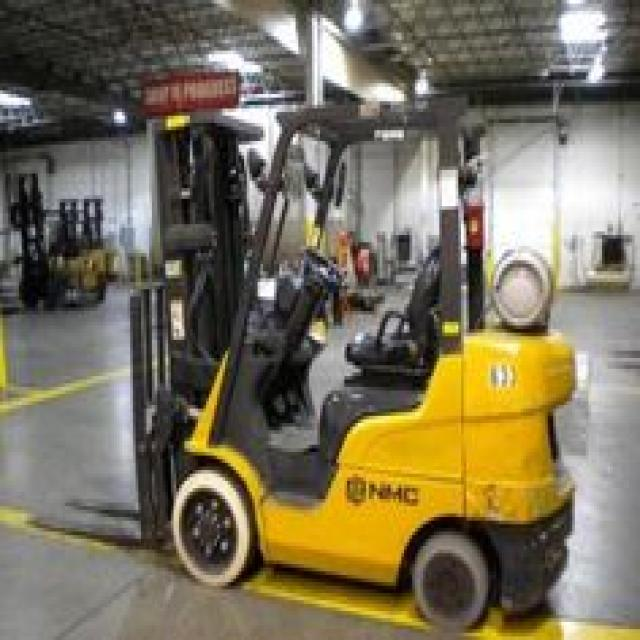Chariot elevateur: (141, 80, 583, 632)
